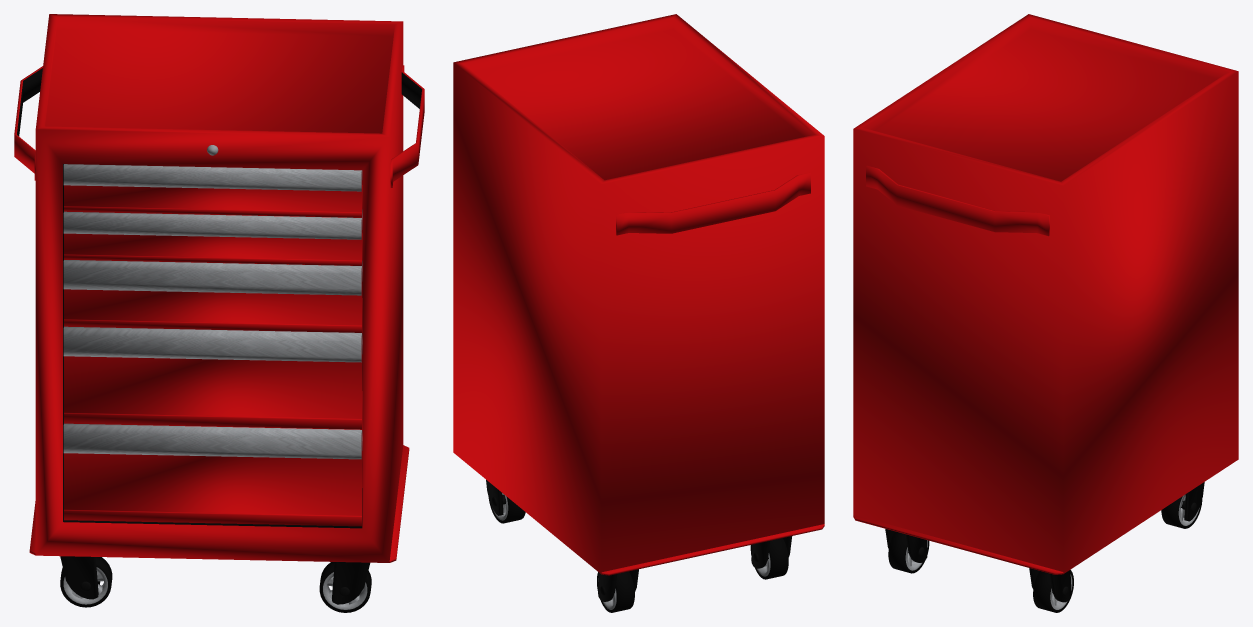
File: Toolbox_Tool.fbx
The picture shows the model from 3 angles, left to right: view 1: azimuth 30°, elevation 25°; view 2: azimuth 150°, elevation 25°; view 3: azimuth 270°, elevation 25°; orthographic projection. The views are drawn at different scales.
Parts seen in each view (by area): view 1: Toolbox, Shelf 5, Shelf 4, Shelf 3, Shelf 2, Shelf 1, Wheels; view 2: Toolbox, Wheels; view 3: Toolbox, Wheels.
Part boxes in pixels (box(x1,y1,x2,y2)): Toolbox: box(14, 14, 424, 562); Shelf 5: box(63, 391, 362, 526); Shelf 4: box(63, 298, 362, 429); Shelf 3: box(63, 233, 362, 332); Shelf 2: box(63, 185, 362, 265); Shelf 1: box(63, 164, 362, 217); Wheels: box(60, 556, 371, 612); Toolbox: box(453, 14, 824, 575); Wheels: box(486, 480, 792, 612); Toolbox: box(853, 14, 1238, 574); Wheels: box(885, 482, 1204, 612).
Size of the model in its own units: 1.18 by 1.42 by 1.11.
5 materials, 1 textured.
